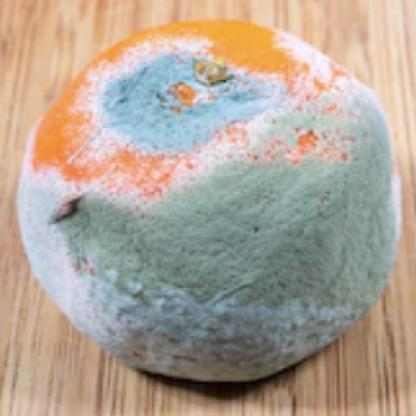rotten: (20, 19, 404, 386)
